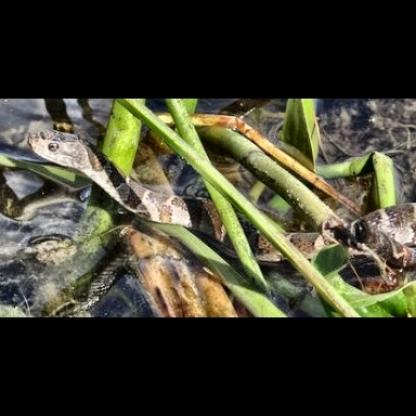Snake: (9, 95, 406, 322), (4, 104, 214, 321)
